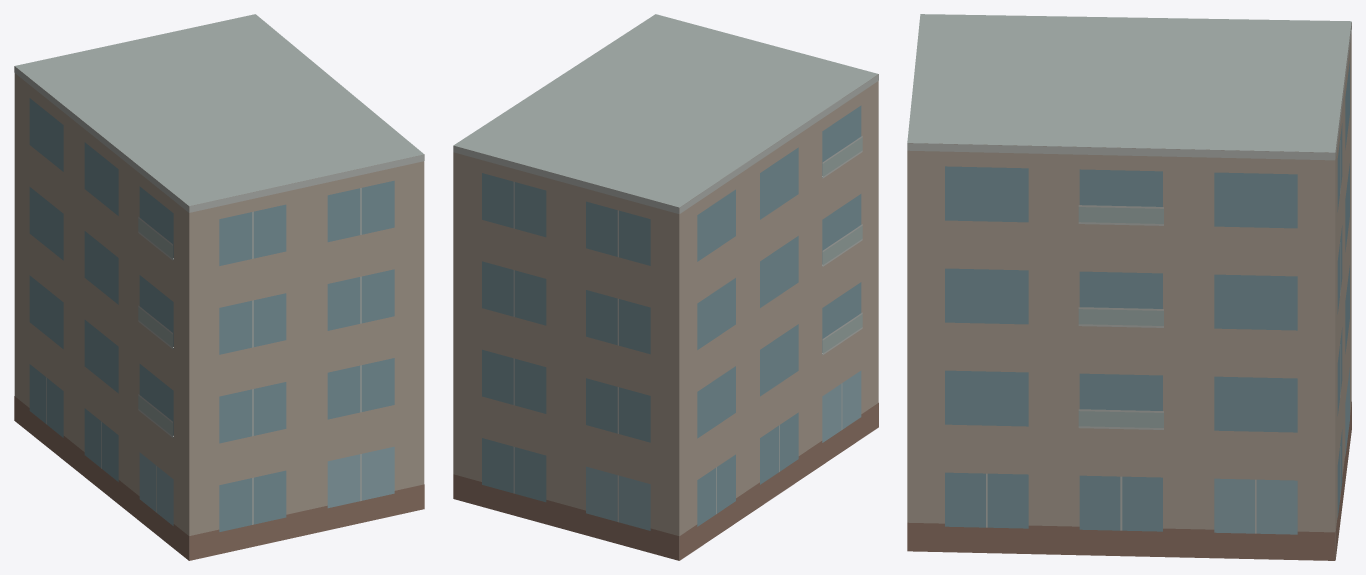
Rendered from survey-upis-32938294.glb.
3 renders of one model, left to right at view 1: azimuth 30°, elevation 25°; view 2: azimuth 150°, elevation 25°; view 3: azimuth 270°, elevation 25°, orthographic. The views are drawn at different scales.
Parts seen in each view (by area): view 1: survey-upis-32938294.tmp; view 2: survey-upis-32938294.tmp; view 3: survey-upis-32938294.tmp.
Boxes of the visible parts, x1=… form: survey-upis-32938294.tmp: x1=14, y1=14, x2=424, y2=560; survey-upis-32938294.tmp: x1=453, y1=14, x2=878, y2=560; survey-upis-32938294.tmp: x1=907, y1=14, x2=1351, y2=560.
Bounding box in the file's own units: 9.33 × 12.8 × 12.64.
